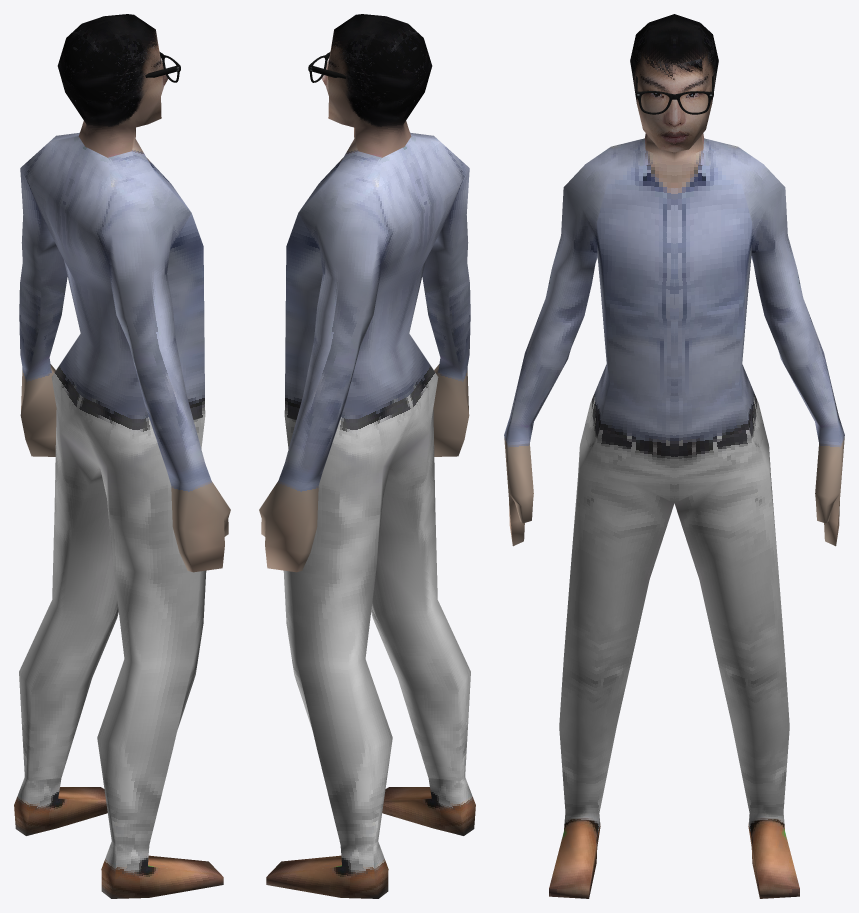
Rendered from Dexter.glb.
3 renders of one model, left to right at view 1: azimuth 30°, elevation 25°; view 2: azimuth 150°, elevation 25°; view 3: azimuth 270°, elevation 25°, orthographic. The views are drawn at different scales.
Parts seen in each view (by area): view 1: Object_2; view 2: Object_2; view 3: Object_2.
Part boxes in pixels (x1=…): Object_2: x1=14, y1=14, x2=230, y2=898; Object_2: x1=259, y1=14, x2=475, y2=898; Object_2: x1=504, y1=14, x2=844, y2=898.
Size of the model in its own units: 0.5122 by 3.14 by 1.14.
Materials: 2 (2 with a texture image).
